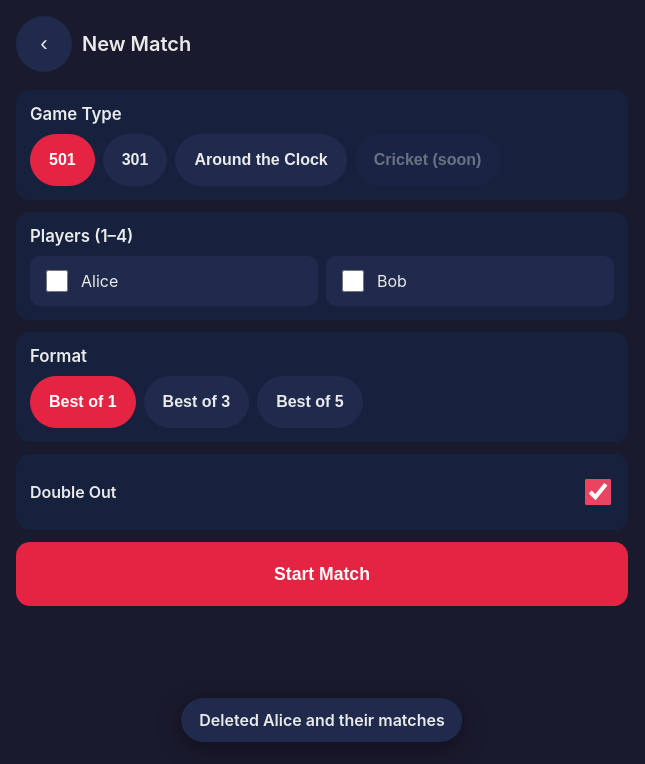
Test: screens render without crashing › Setup shows live throw-order badges on selected players
# Select Bob first, then Alice → Bob throws 1st, Alice 2nd.
Click the checkbox labelled "Bob".
click(353, 281)  # box top-left (342, 270), bottom-right (364, 292)
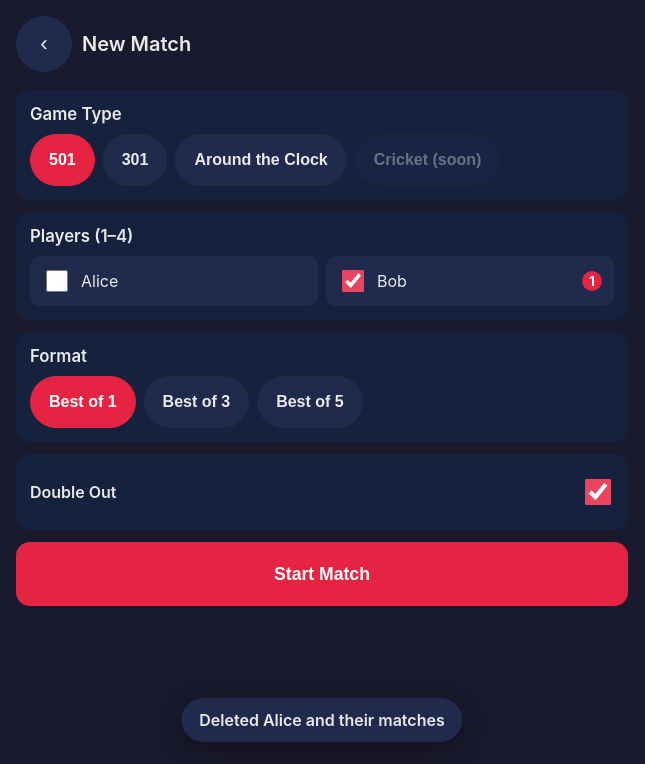
Click the checkbox labelled "Alice".
click(57, 281)  # box top-left (46, 270), bottom-right (68, 292)
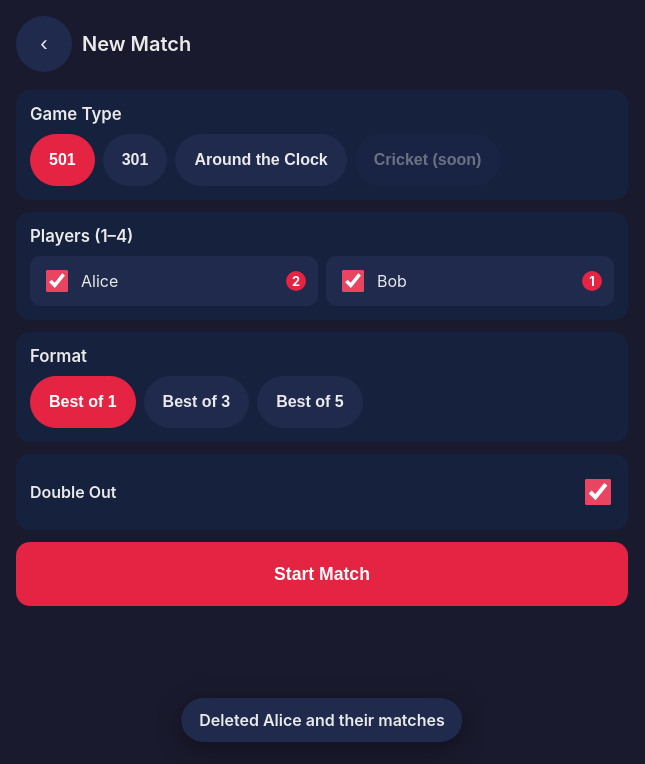
Expected: the text with class "order-badge" reads "1", top-left (589, 274), bottom-right (595, 288)
Expected: the text with class "order-badge" reads "2", top-left (292, 274), bottom-right (300, 288)
# Deselecting the first re-numbers the rest live.
Click the checkbox labelled "Bob 1".
click(353, 281)  # box top-left (342, 270), bottom-right (364, 292)
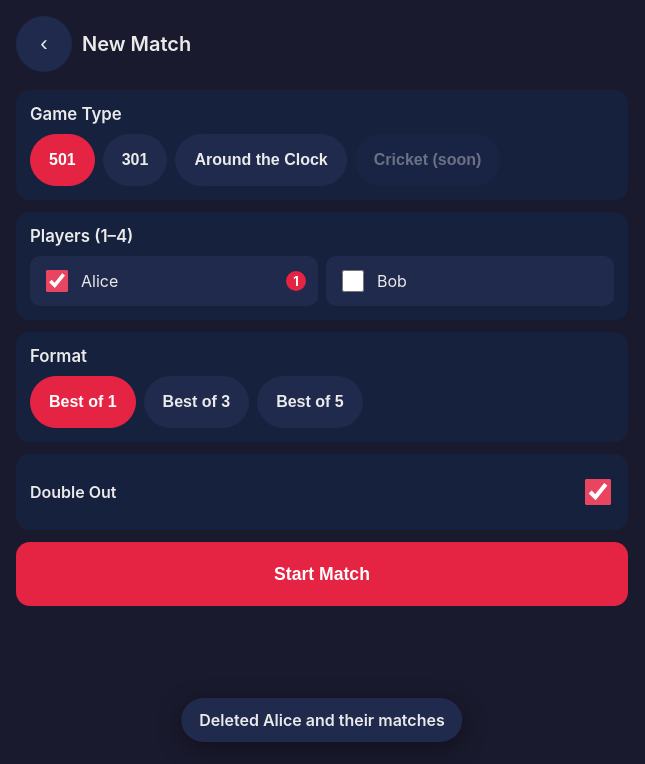
Expected: the text with class "order-badge" reads "1", top-left (293, 274), bottom-right (299, 288)
